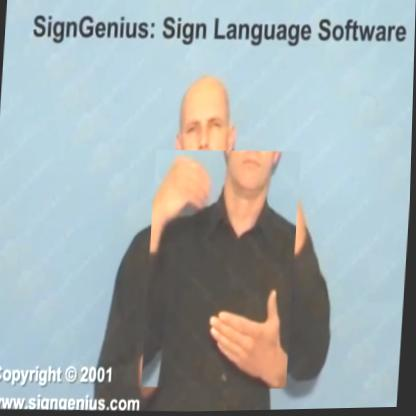Expensive: (143, 148, 302, 393)
